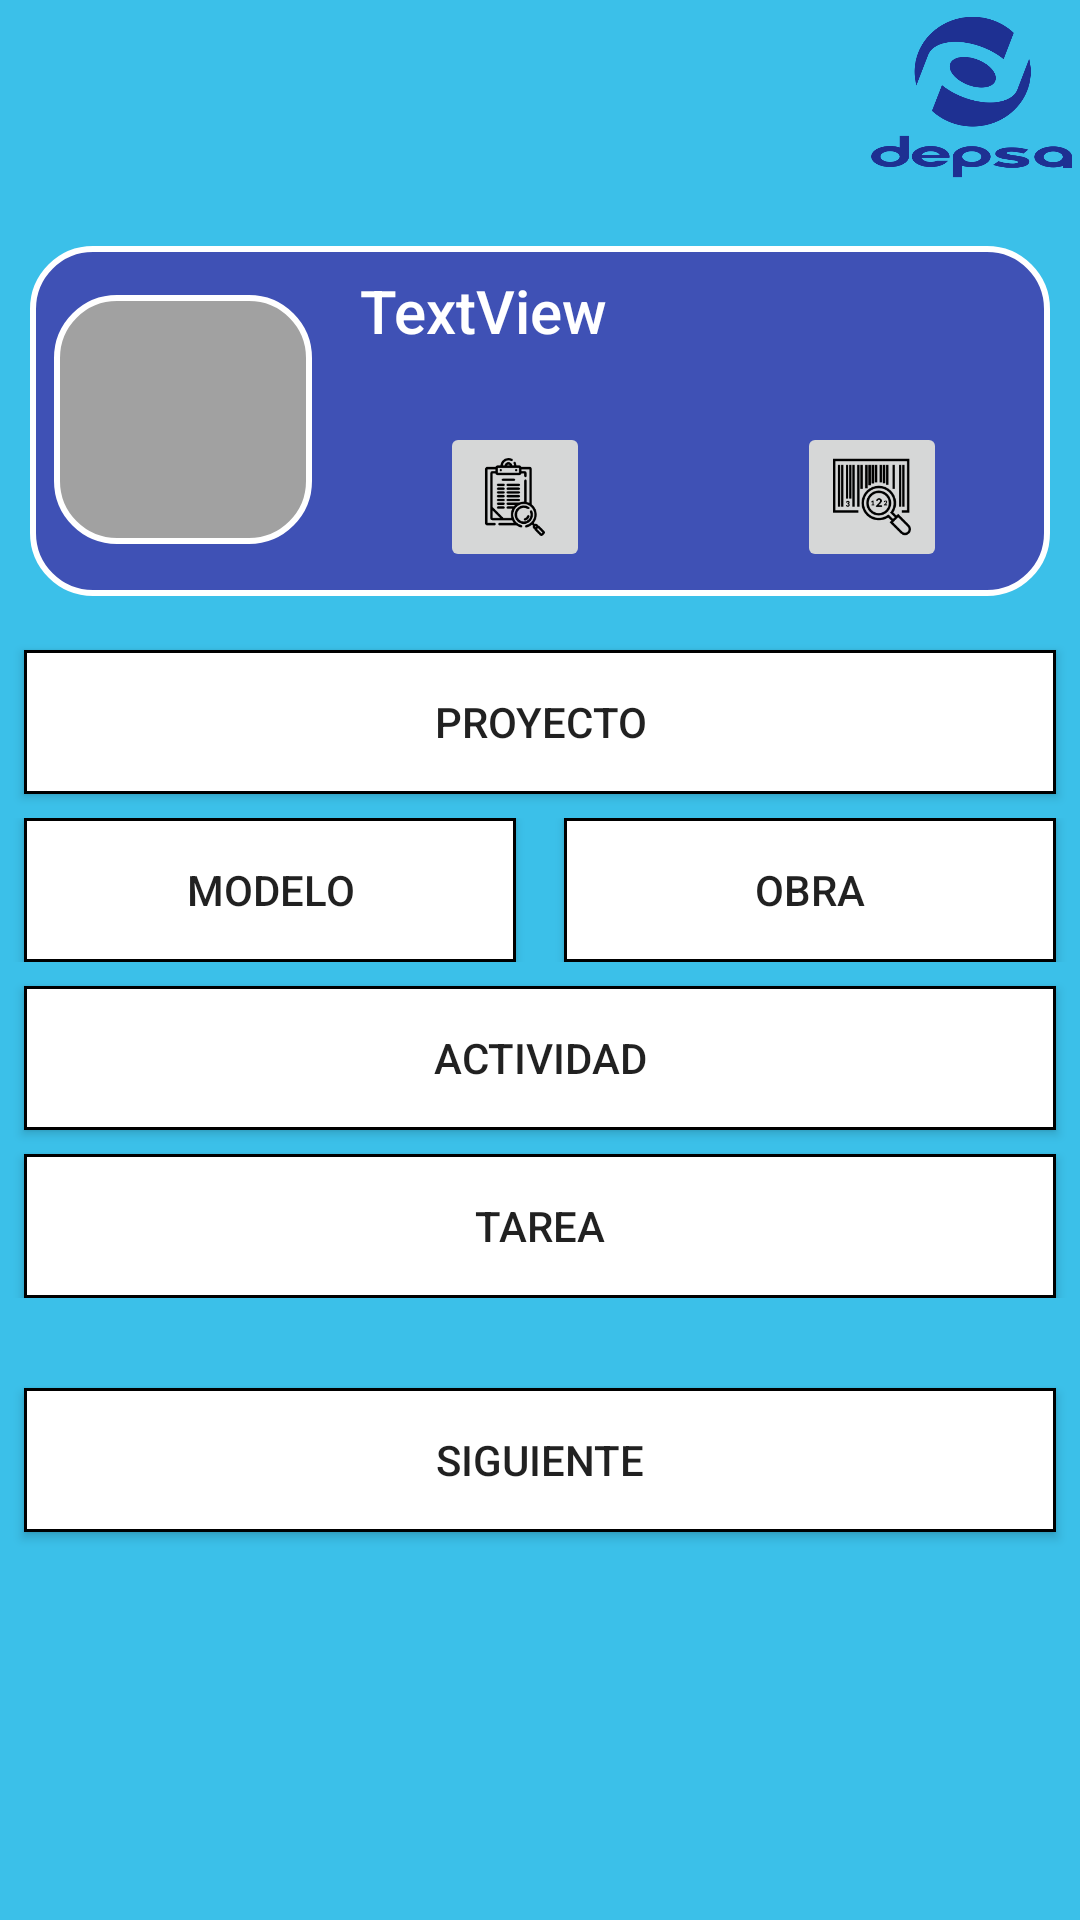

Where to tap for icons on this 1080 × 1920 app screen, as (x,y):
barcode scan: (872,497)
manual search: (515,497)
